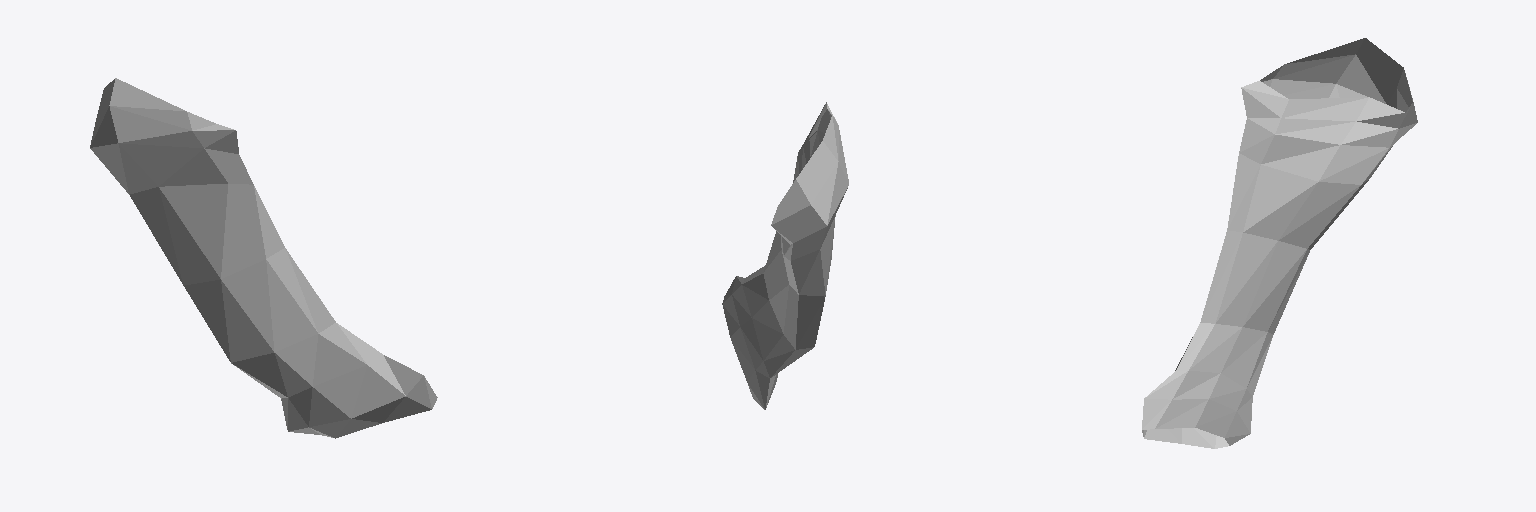
The model's file is Zygomaticus_Major_Muscle_Right.obj.
The picture shows the model from 3 angles: view 1: azimuth 30°, elevation 25°; view 2: azimuth 150°, elevation 25°; view 3: azimuth 270°, elevation 25°; orthographic projection.
Visible parts, largest first — view 1: Zygomaticus_Major_Muscle_Right1_Mesh group1; view 2: Zygomaticus_Major_Muscle_Right1_Mesh group1; view 3: Zygomaticus_Major_Muscle_Right1_Mesh group1.
Boxes of the visible parts, box(x1,y1,x2,y2) form: Zygomaticus_Major_Muscle_Right1_Mesh group1: box(90, 78, 437, 438); Zygomaticus_Major_Muscle_Right1_Mesh group1: box(722, 102, 848, 409); Zygomaticus_Major_Muscle_Right1_Mesh group1: box(1142, 38, 1417, 448).
Size of the model in its own units: 0.3044 by 0.4404 by 0.3232.